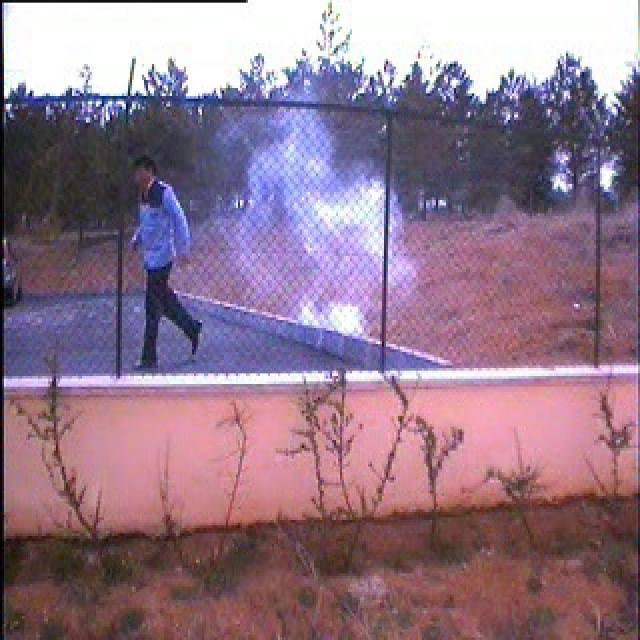Smoke: (208, 73, 422, 344)
